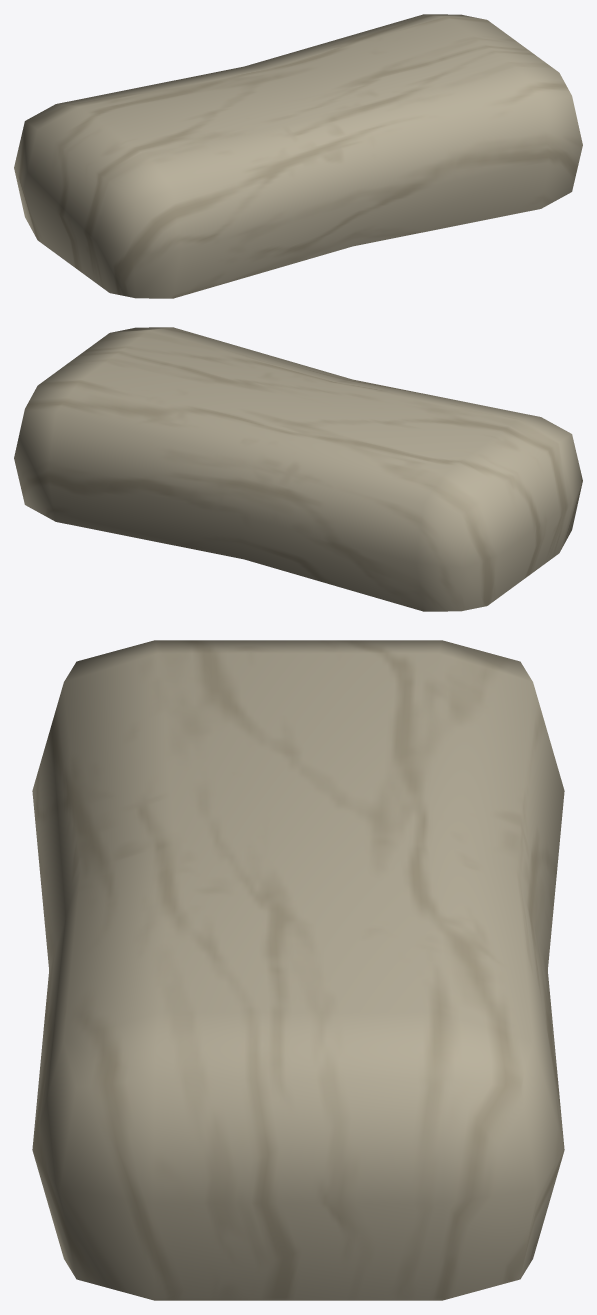
The model's file is Soap.fbx.
3 views of the same model, one above another, from view 1: azimuth 30°, elevation 25°; view 2: azimuth 150°, elevation 25°; view 3: azimuth 270°, elevation 25° (orthographic). The views are drawn at different scales.
Visible parts, largest first — view 1: Soap; view 2: Soap; view 3: Soap.
Part boxes in pixels (x1,y1,x2,y2): Soap: [14, 14, 582, 298]; Soap: [14, 327, 582, 611]; Soap: [32, 640, 564, 1300].
Bounding box in the file's own units: 8.48 × 2.33 × 4.1.
